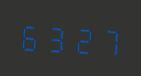seven: (96, 21, 121, 58)
six: (18, 17, 43, 54)
three: (44, 18, 69, 55)
two: (70, 20, 95, 57)
